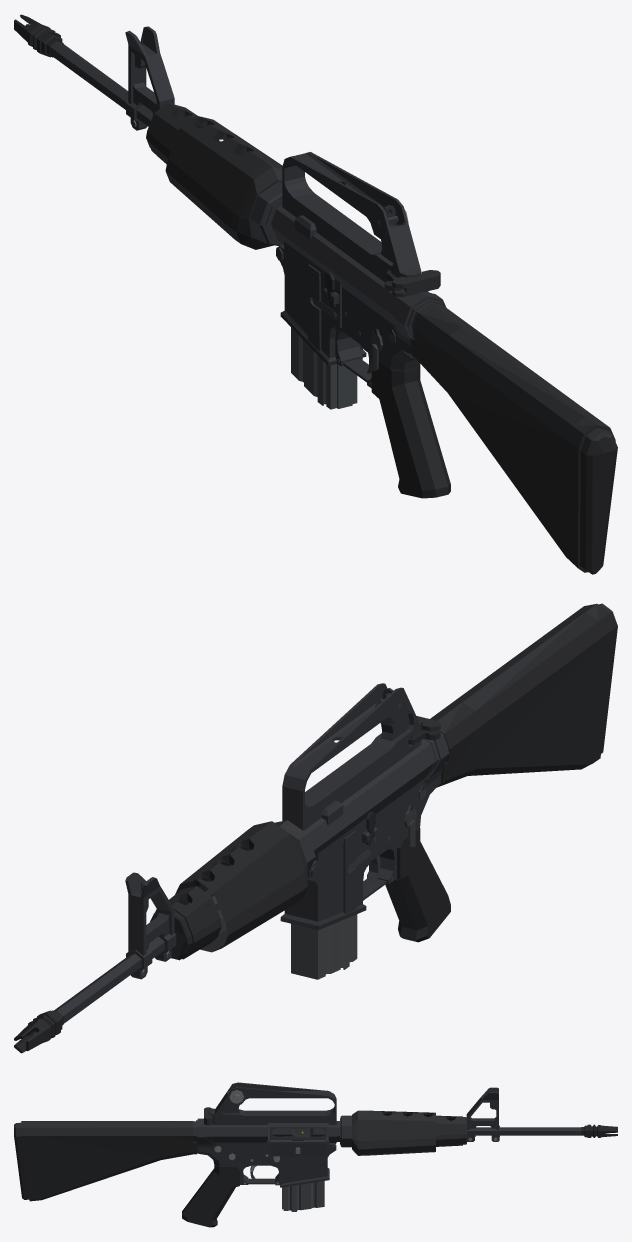
3 views of the same model, one above another, from view 1: azimuth 30°, elevation 25°; view 2: azimuth 150°, elevation 25°; view 3: azimuth 270°, elevation 25° (orthographic). The views are drawn at different scales.
Visible parts, largest first — view 1: m4, m4_mag; view 2: m4, m4_mag; view 3: m4, m4_mag.
Part boxes in pixels (<box>): m4: <box>14,14,617,574</box>; m4_mag: <box>291,327,357,409</box>; m4: <box>14,603,617,1053</box>; m4_mag: <box>291,914,357,979</box>; m4: <box>14,1082,617,1227</box>; m4_mag: <box>282,1135,324,1211</box>.
Size of the model in its own units: 0.0604 by 0.2174 by 0.85.
1 material, 1 textured.
